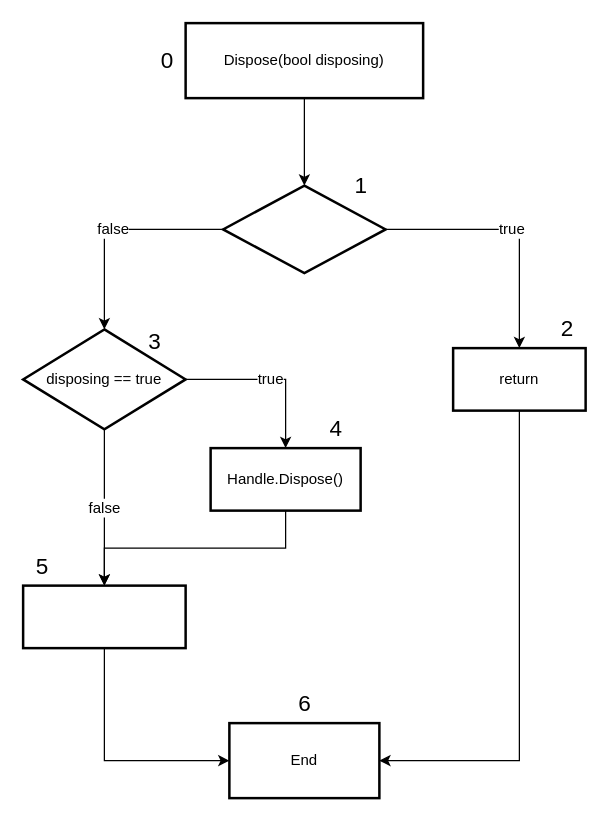
This 608x820 diagram has some shape labels left out. The shapes that lost their labels are listed below. From the top down, each one's box as (x1, y1, x2, y2) in pixels, then its label:
(221, 184, 386, 274): Disposed == true
(21, 584, 186, 649): _flag = null Disposed = true
